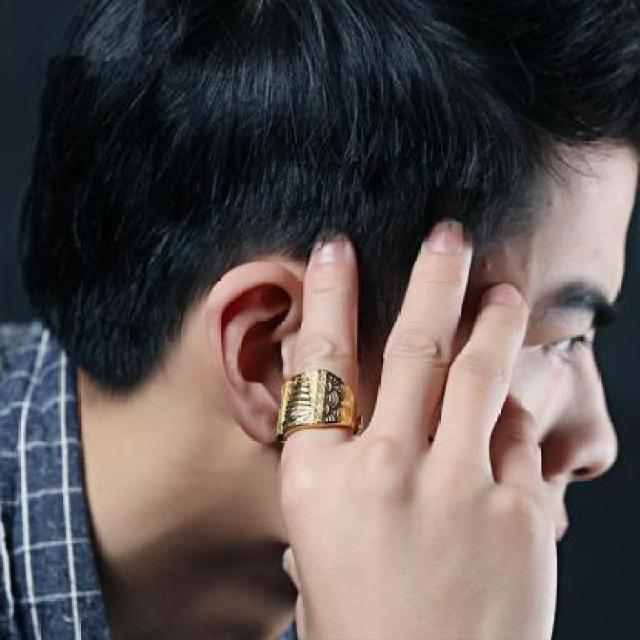hand_noglove: (277, 221, 571, 628)
